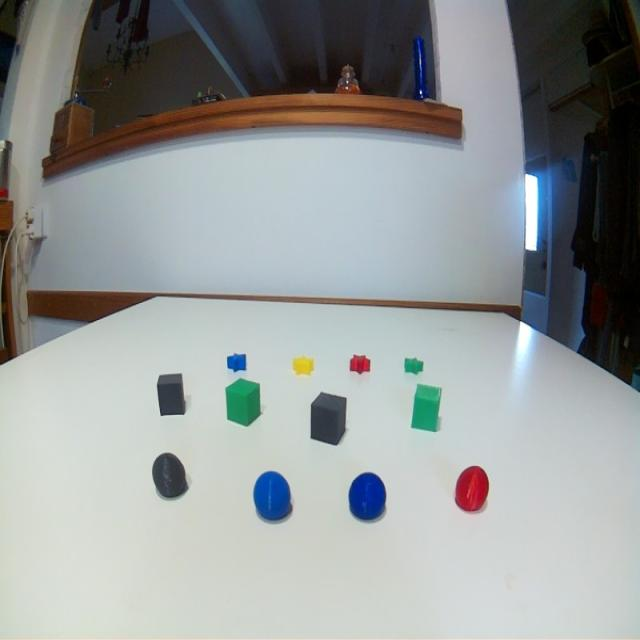ball: (347, 467, 388, 523), (253, 469, 292, 526), (148, 450, 190, 502), (453, 463, 492, 516)
cube: (308, 388, 348, 449), (223, 374, 263, 430), (408, 381, 444, 435), (154, 370, 186, 417)
star: (289, 349, 316, 377), (346, 351, 372, 378), (401, 352, 426, 377), (223, 349, 249, 372)
